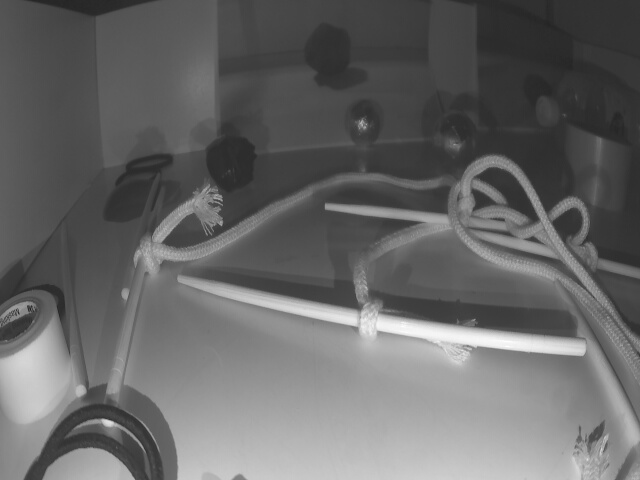Dead: (207, 131, 256, 192)
Live: (433, 110, 477, 172), (345, 99, 384, 145)
